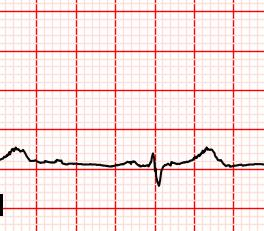LVH: (185, 145, 229, 168)
Poor R Progression: (144, 148, 160, 168)
ST Depression: (140, 159, 174, 192)
